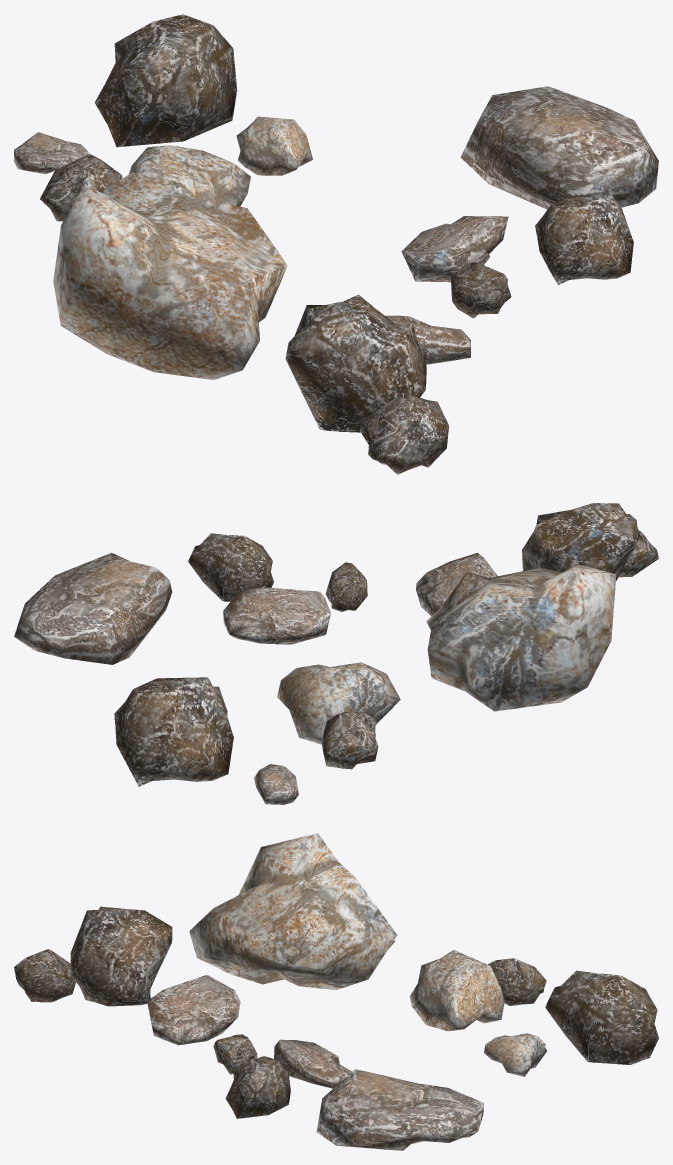
The model's file is SM_pebbles_group_01.fbx.
3 views of the same model, one above another, from view 1: azimuth 30°, elevation 25°; view 2: azimuth 150°, elevation 25°; view 3: azimuth 270°, elevation 25° (orthographic). The views are drawn at different scales.
Parts seen in each view (by area): view 1: SM_pebbles_group_01_LOD0; view 2: SM_pebbles_group_01_LOD0; view 3: SM_pebbles_group_01_LOD0.
Boxes of the visible parts, <box> form: SM_pebbles_group_01_LOD0: <box>14,14,658,474</box>; SM_pebbles_group_01_LOD0: <box>14,503,658,804</box>; SM_pebbles_group_01_LOD0: <box>14,833,658,1150</box>.
Bounding box in the file's own units: 61.21 × 75.84 × 15.64.
1 material, 1 textured.
